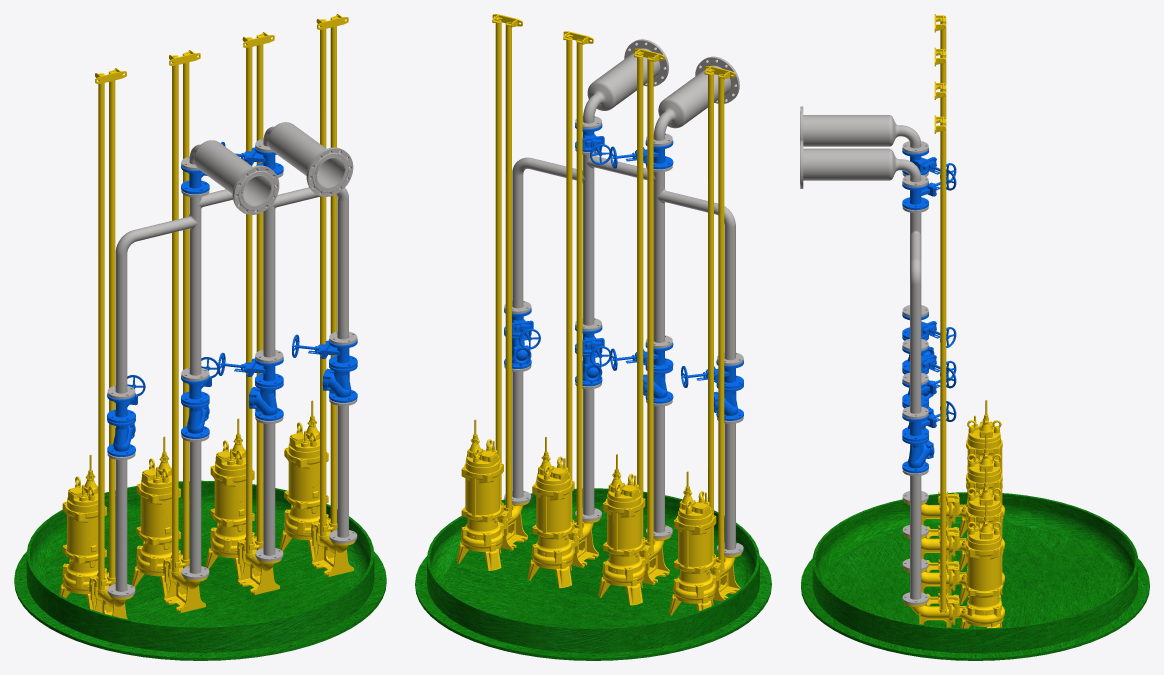
The model's file is w3r1-2_pipework.glb.
3 views of the same model, side by side, from view 1: azimuth 30°, elevation 25°; view 2: azimuth 150°, elevation 25°; view 3: azimuth 270°, elevation 25° (orthographic). The views are drawn at different scales.
Parts seen in each view (by area): view 1: Твердое тело1 (×11), Solid1 (×13), Твердое тело3 (×8), Твердое тело4 (×4), Твердое тело8 (×4), Твердое тело9 (×4), Твердое тело7 (×4); view 2: Твердое тело1 (×13), Solid1 (×16), Твердое тело4 (×4), Твердое тело3 (×4), Твердое тело8 (×4), Твердое тело9 (×4), Твердое тело7 (×4); view 3: Твердое тело1 (×7), Solid1 (×4), Твердое тело3 (×3), Твердое тело9 (×4), Твердое тело8, Твердое тело7.
Boxes of the visible parts, x1,y1,x2,y2 form: Твердое тело1 (×11): (14, 364, 386, 660); Solid1 (×13): (115, 123, 353, 591); Твердое тело3 (×8): (107, 26, 357, 586); Твердое тело4 (×4): (98, 29, 326, 590); Твердое тело8 (×4): (62, 451, 328, 560); Твердое тело9 (×4): (62, 431, 328, 516); Твердое тело7 (×4): (62, 495, 328, 579); Твердое тело1 (×13): (415, 332, 771, 660); Solid1 (×16): (512, 39, 739, 549); Твердое тело4 (×4): (505, 25, 724, 569); Твердое тело3 (×4): (495, 23, 713, 556); Твердое тело8 (×4): (461, 467, 716, 571); Твердое тело9 (×4): (461, 447, 716, 529); Твердое тело7 (×4): (461, 509, 716, 589); Твердое тело1 (×7): (801, 437, 1149, 660); Solid1 (×4): (803, 115, 921, 599); Твердое тело3 (×3): (902, 130, 946, 609); Твердое тело9 (×4): (966, 425, 1002, 553); Твердое тело8: (966, 547, 1002, 594); Твердое тело7: (966, 588, 1002, 611).
Size of the model in its own units: 2.4 by 3.92 by 2.41.
Materials: 4 (1 with a texture image).
